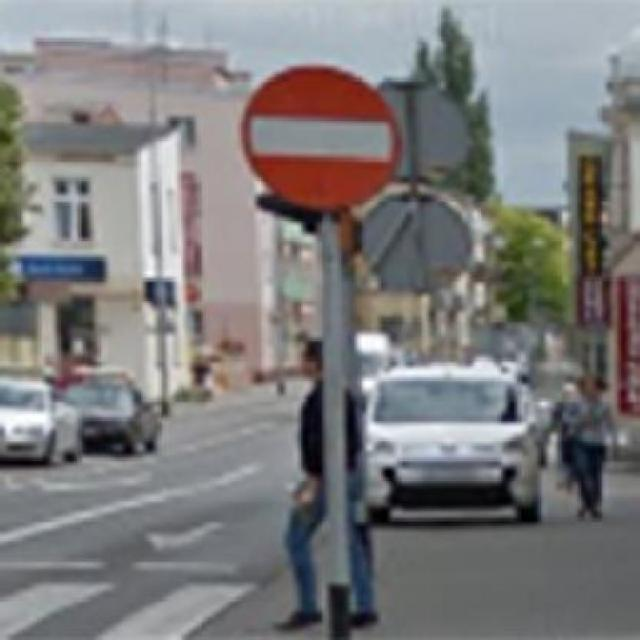Zakaz wjazdu: (241, 62, 401, 212)
